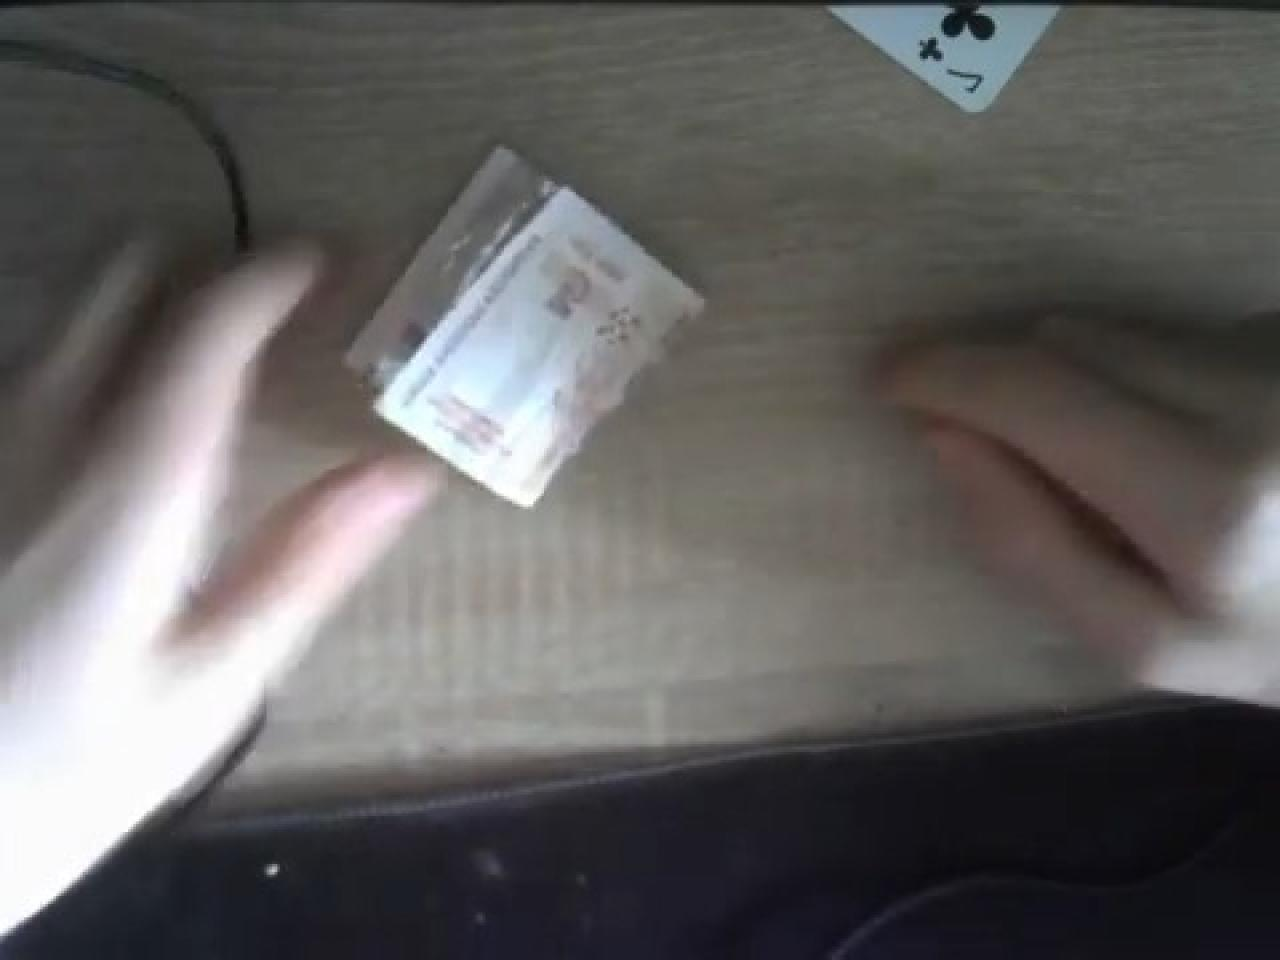5leva: (342, 141, 707, 506)
